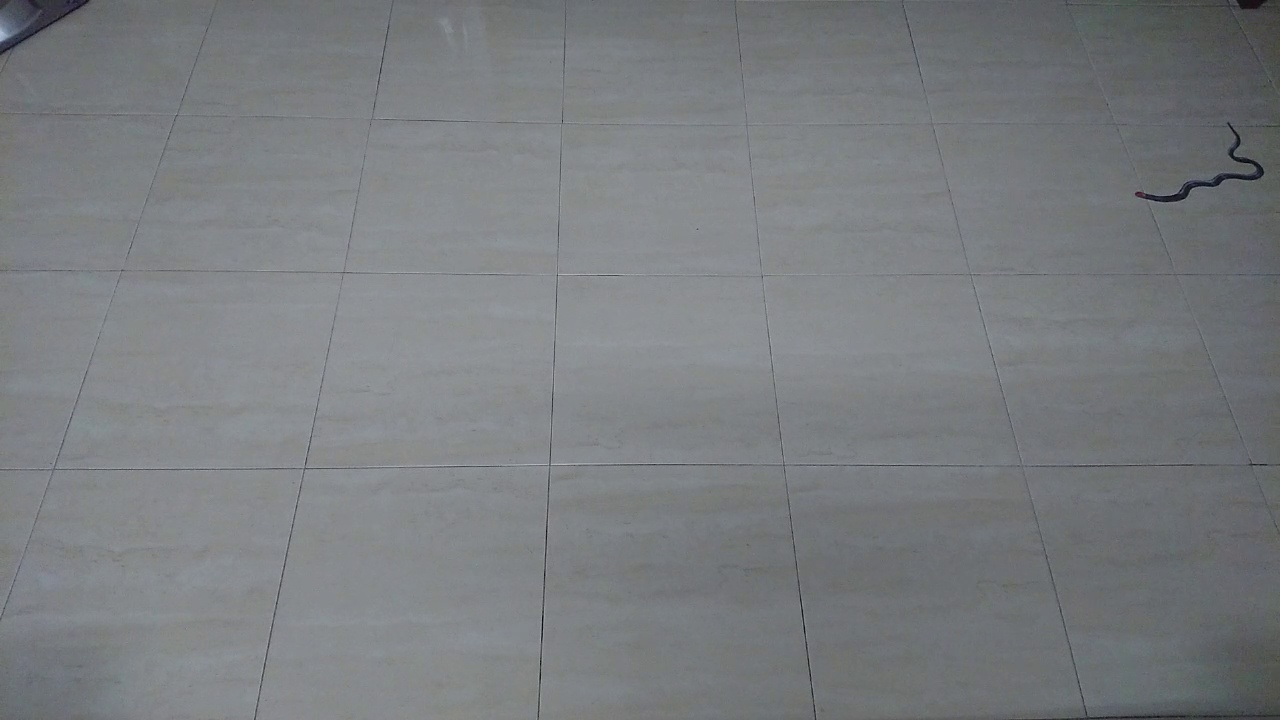snake: (1121, 107, 1273, 219)
